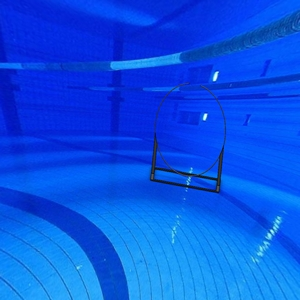circle: (149, 81, 229, 195)
